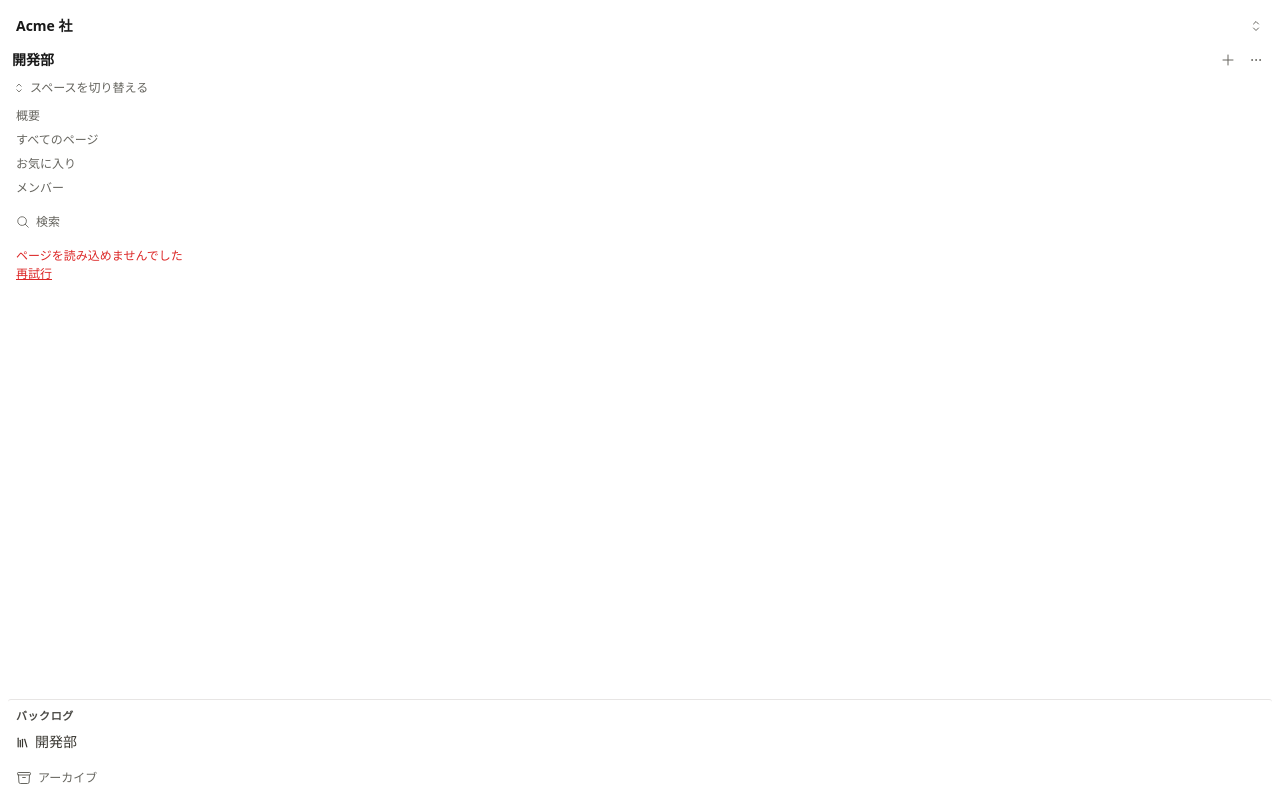
Test: KbSidebar › 木の取得に失敗したら理由を出して再試行できる
The image size is (1280, 800).
Check: the text "ページを読み込めませんでした" is shown, box [16,247,183,264]
What coordinates should you click on to do the following:
click the button "再試行"
I would click on:
 (34, 274)
Its box is [16,266,52,282].
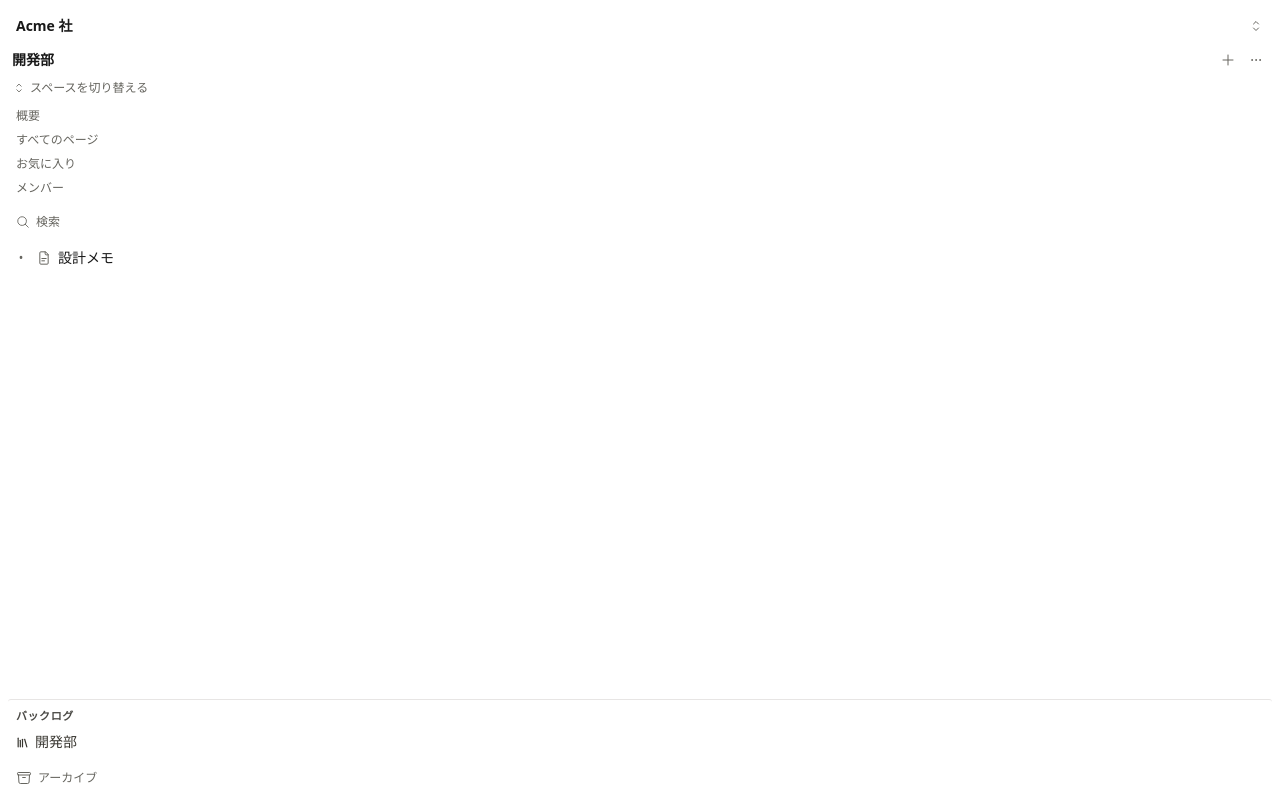
Check: the text "設計メモ" is shown, box [58,248,114,268]
